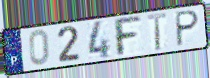0: (27, 28, 51, 68)
2: (56, 25, 82, 65)
4: (87, 20, 113, 60)
F: (111, 15, 144, 58)
P: (175, 9, 201, 49)
T: (146, 11, 169, 53)
